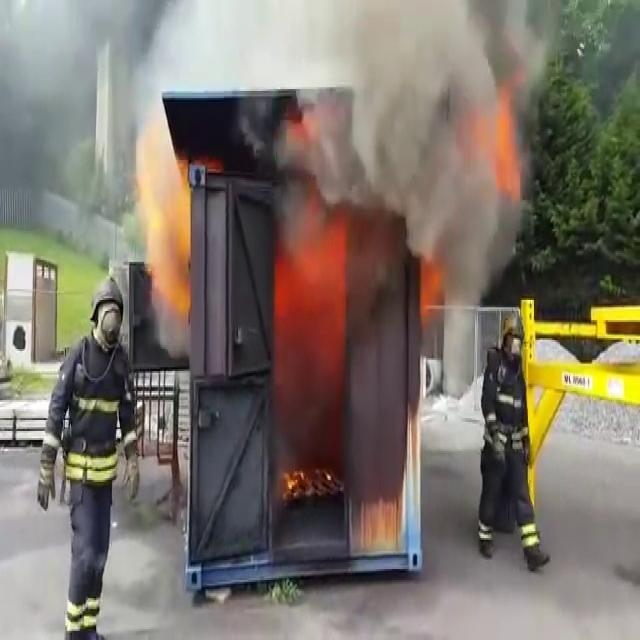Fire: (172, 232, 192, 318), (286, 452, 312, 516)
Smoke: (298, 16, 528, 250)
